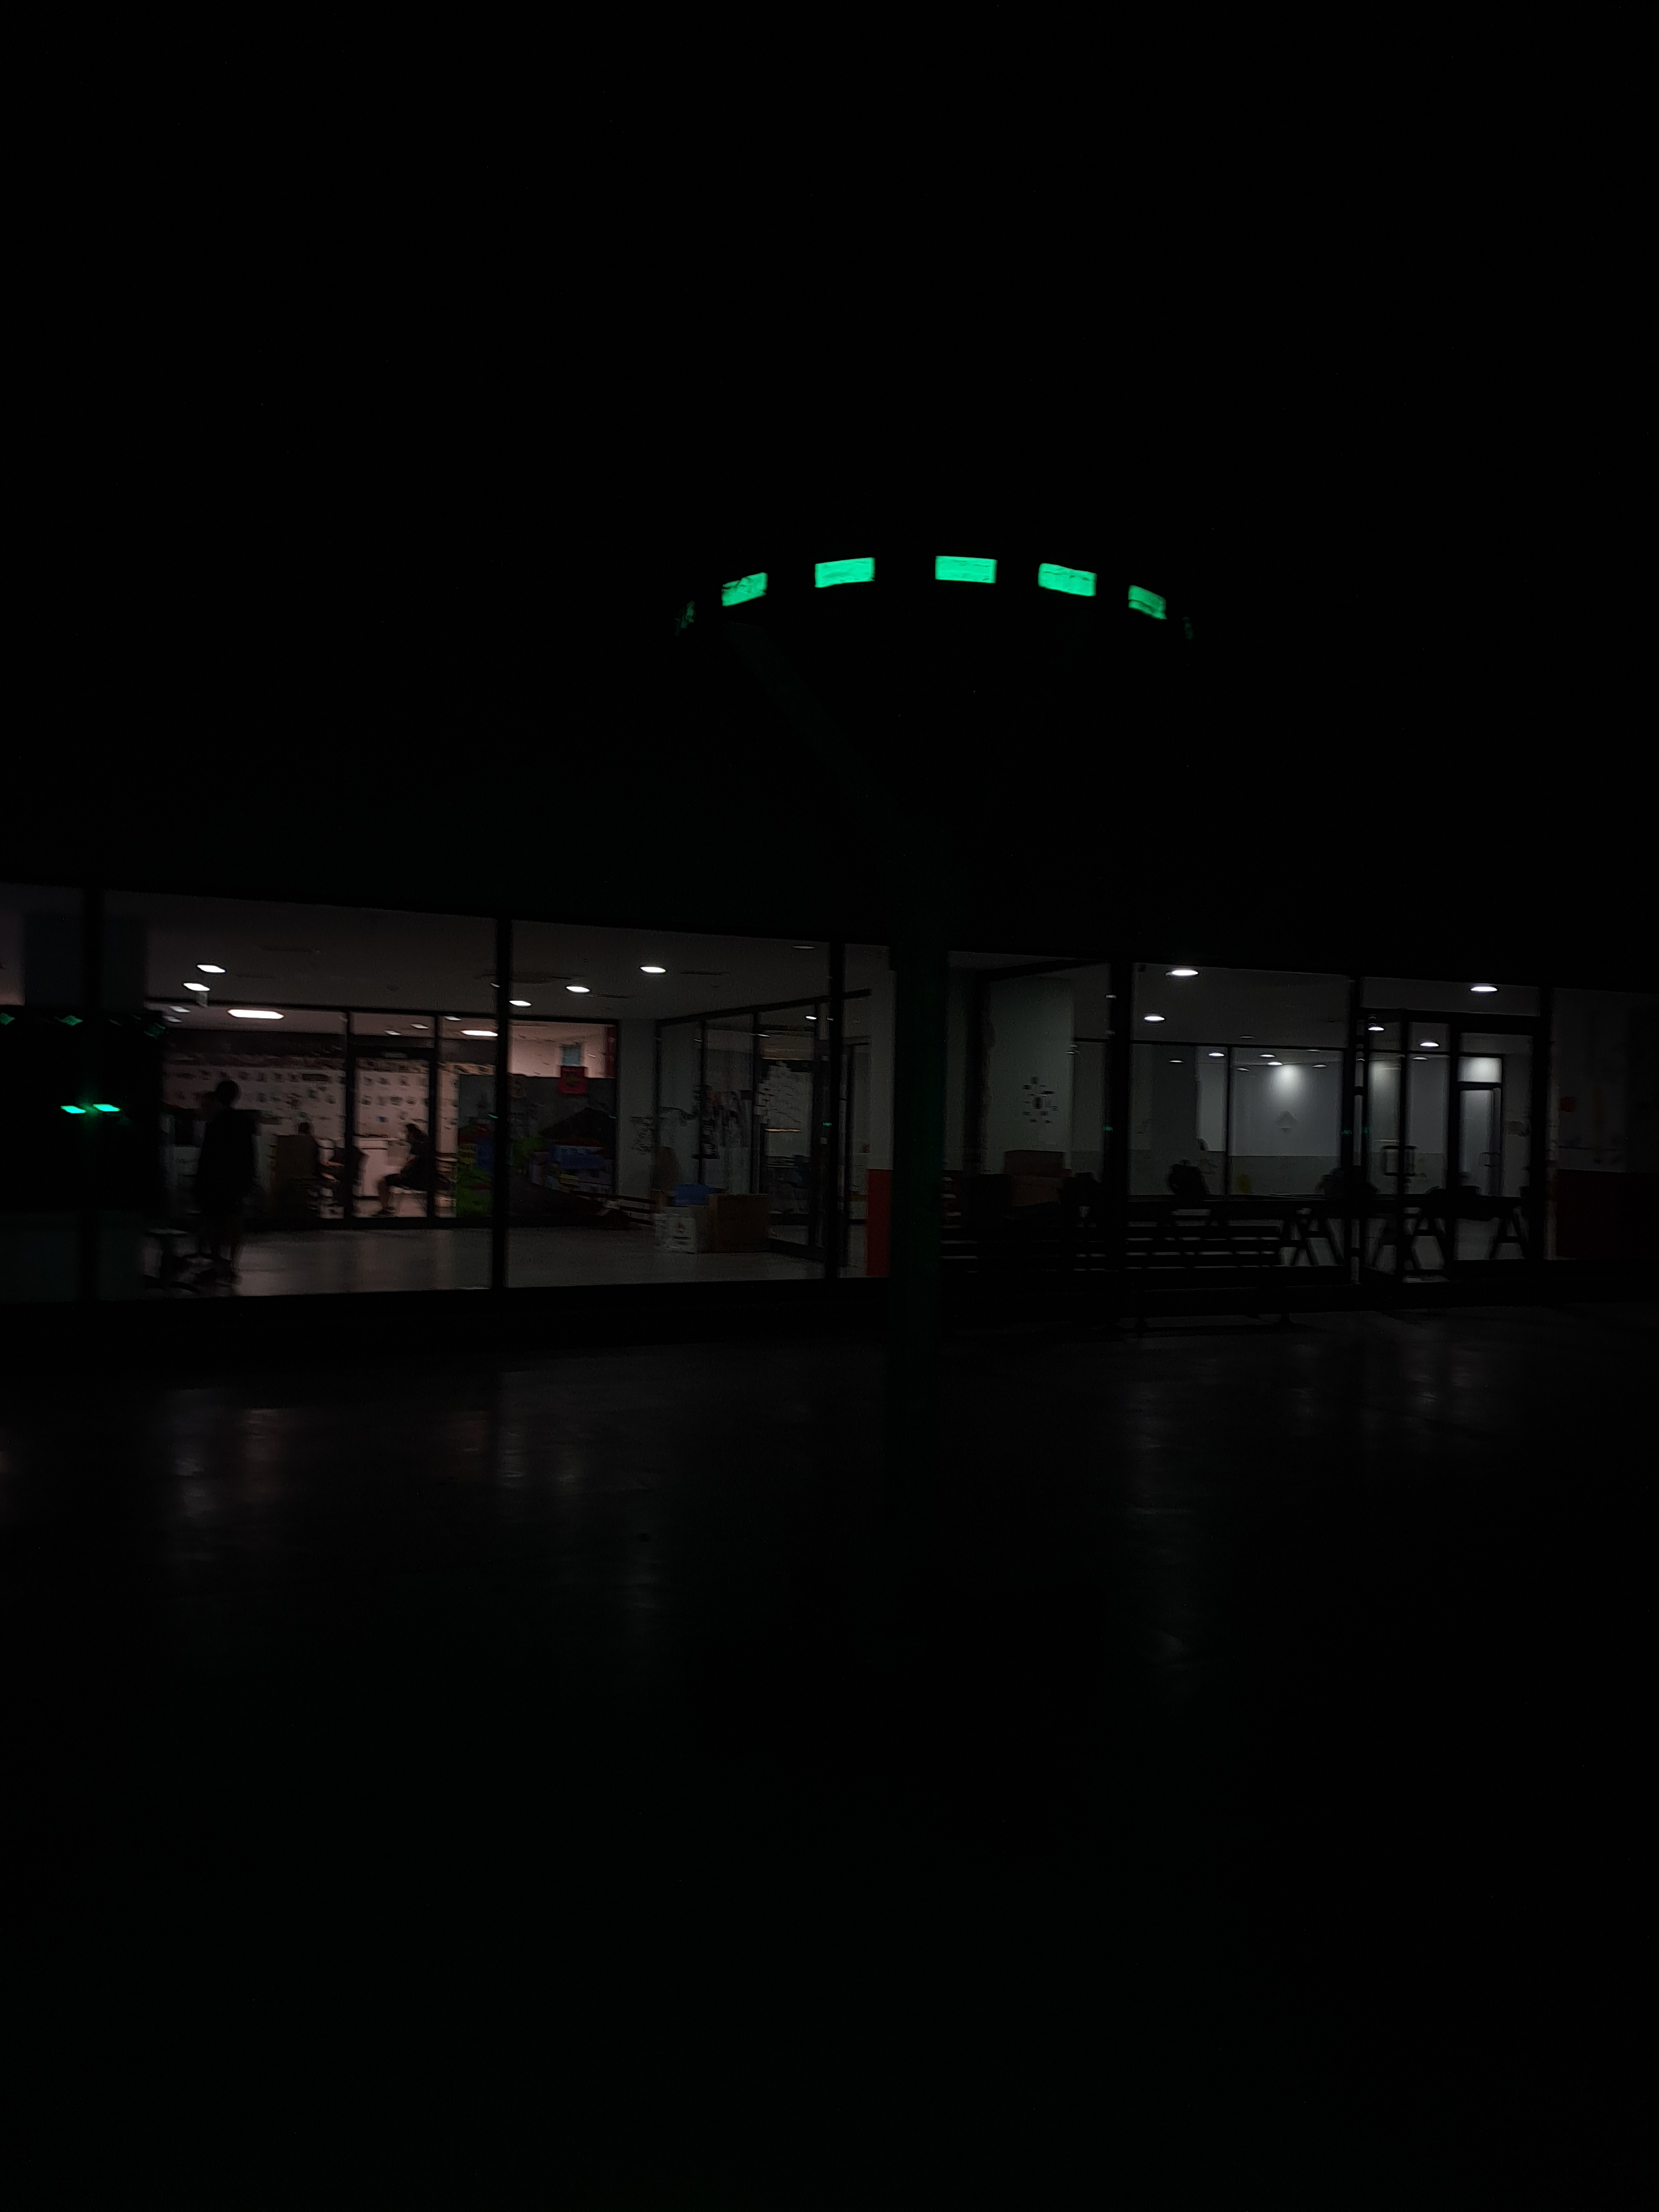hoop: (720, 540, 1169, 639)
